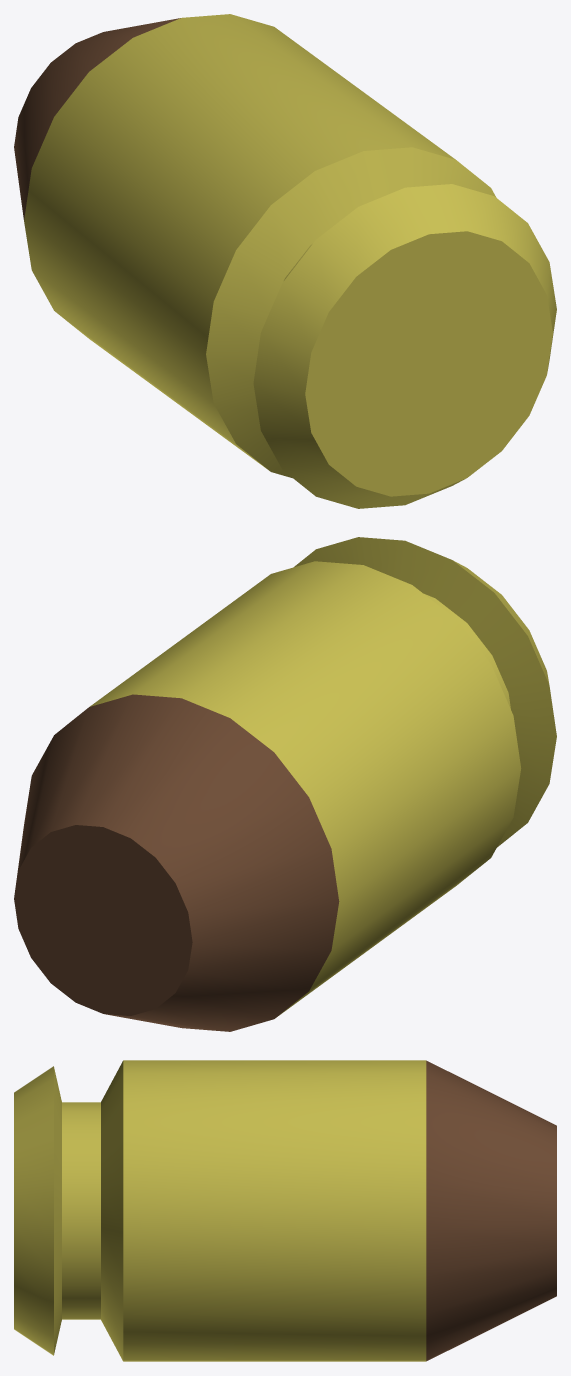
File: Bullet.fbx
3 renders of one model, top to bottom at view 1: azimuth 30°, elevation 25°; view 2: azimuth 150°, elevation 25°; view 3: azimuth 270°, elevation 25°, orthographic. The views are drawn at different scales.
Parts seen in each view (by area): view 1: pCylinder9; view 2: pCylinder9; view 3: pCylinder9.
Boxes of the visible parts, bbox=[...] form: pCylinder9: bbox=[14, 14, 556, 508]; pCylinder9: bbox=[14, 537, 556, 1031]; pCylinder9: bbox=[14, 1060, 556, 1361].
Size of the model in its own units: 2 by 2 by 3.58.
